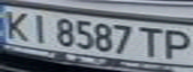5: (72, 18, 96, 51)
7: (112, 21, 136, 55)
8: (51, 16, 78, 47), (90, 20, 115, 53)
I: (27, 11, 54, 44)
K: (0, 7, 33, 42)
P: (160, 27, 193, 61)
T: (136, 24, 166, 57)
